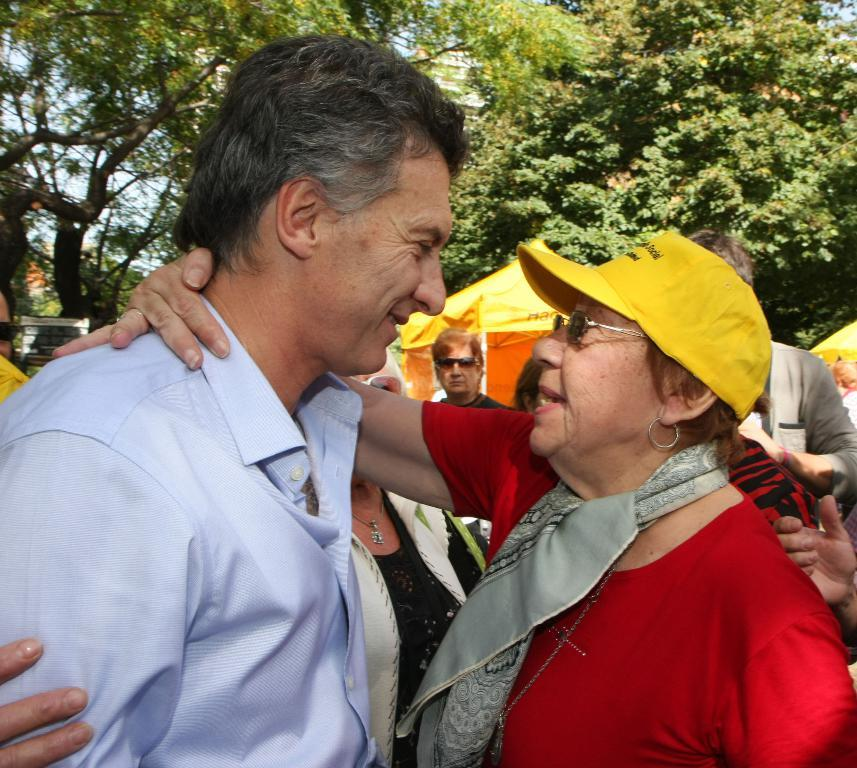Hat: (517, 228, 772, 424)
